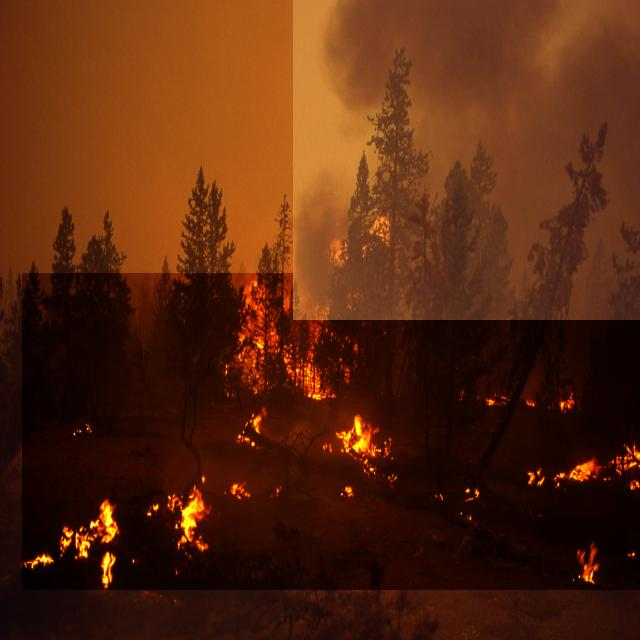Fire: (22, 273, 640, 590)
Smoke: (293, 0, 640, 320)
